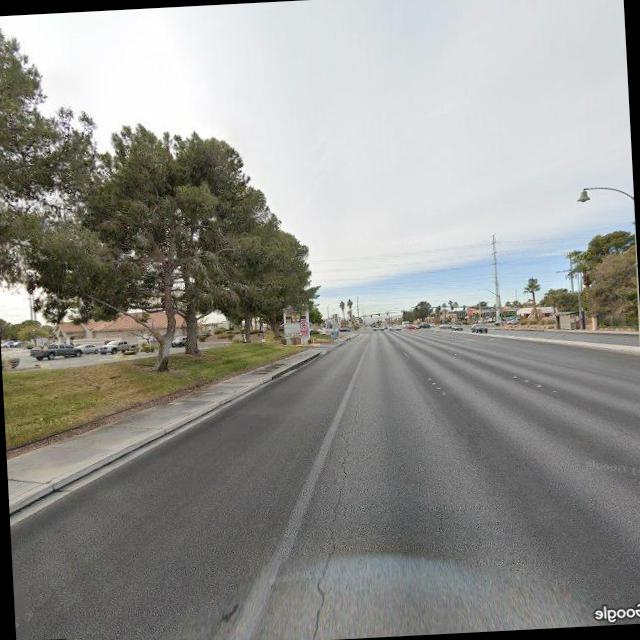pothole: (298, 409, 370, 639)
